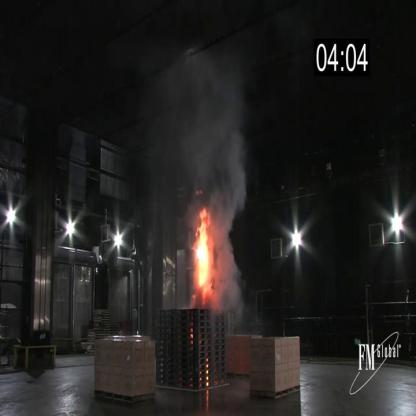fire: (193, 202, 214, 306)
